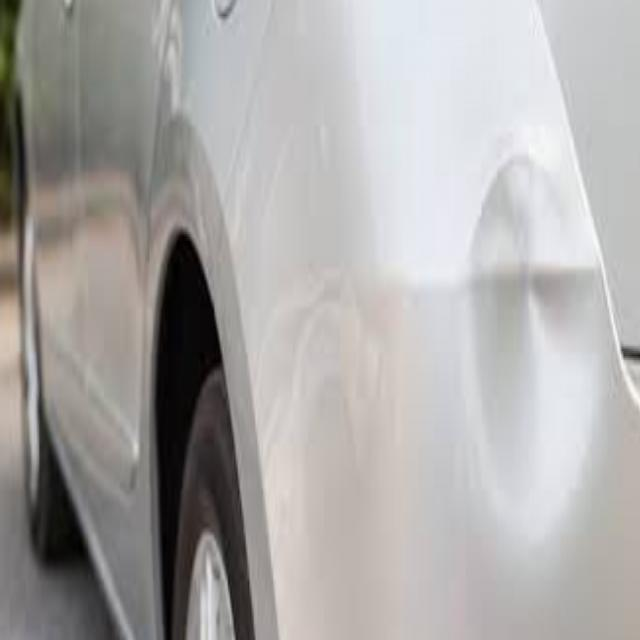dents: (452, 152, 600, 529)
